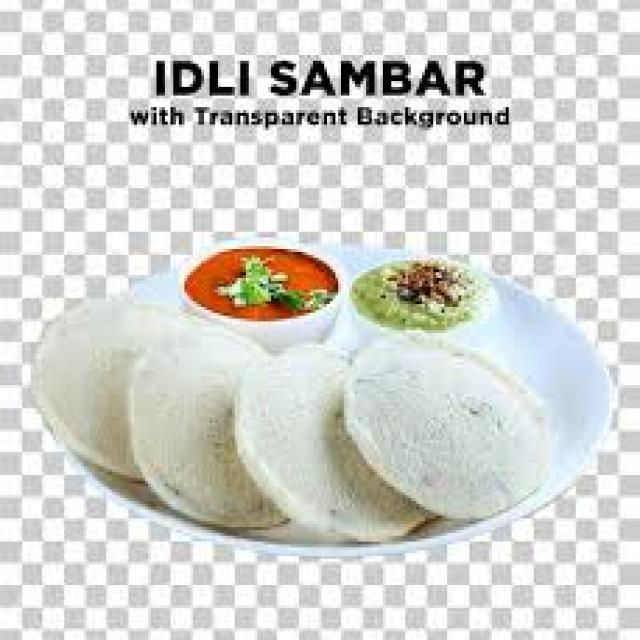IDLI: (240, 350, 427, 535), (347, 341, 553, 504), (126, 326, 293, 527), (34, 300, 196, 483)
